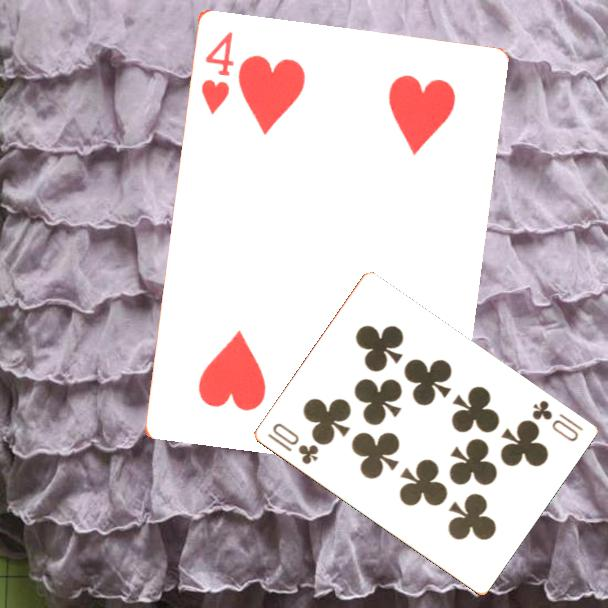c10: (528, 397, 586, 445), (264, 419, 321, 467)
h04: (197, 27, 237, 118)
